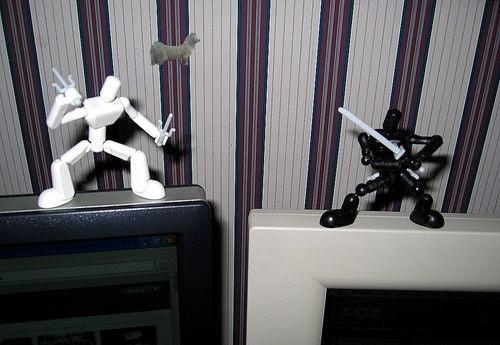tampered: (151, 34, 200, 65)
